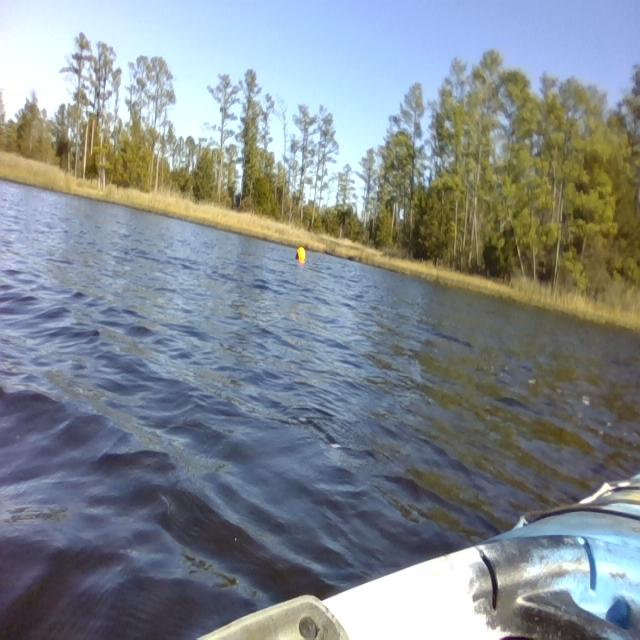Buoy: (294, 242, 308, 266)
